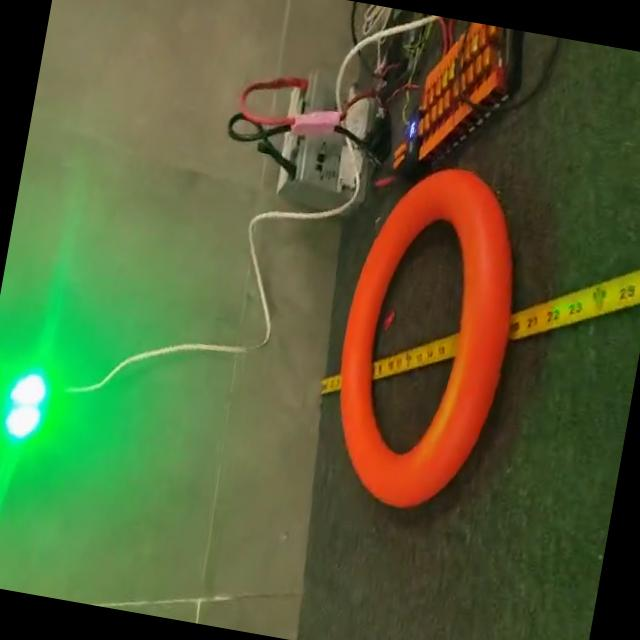note: (316, 156, 538, 524)
